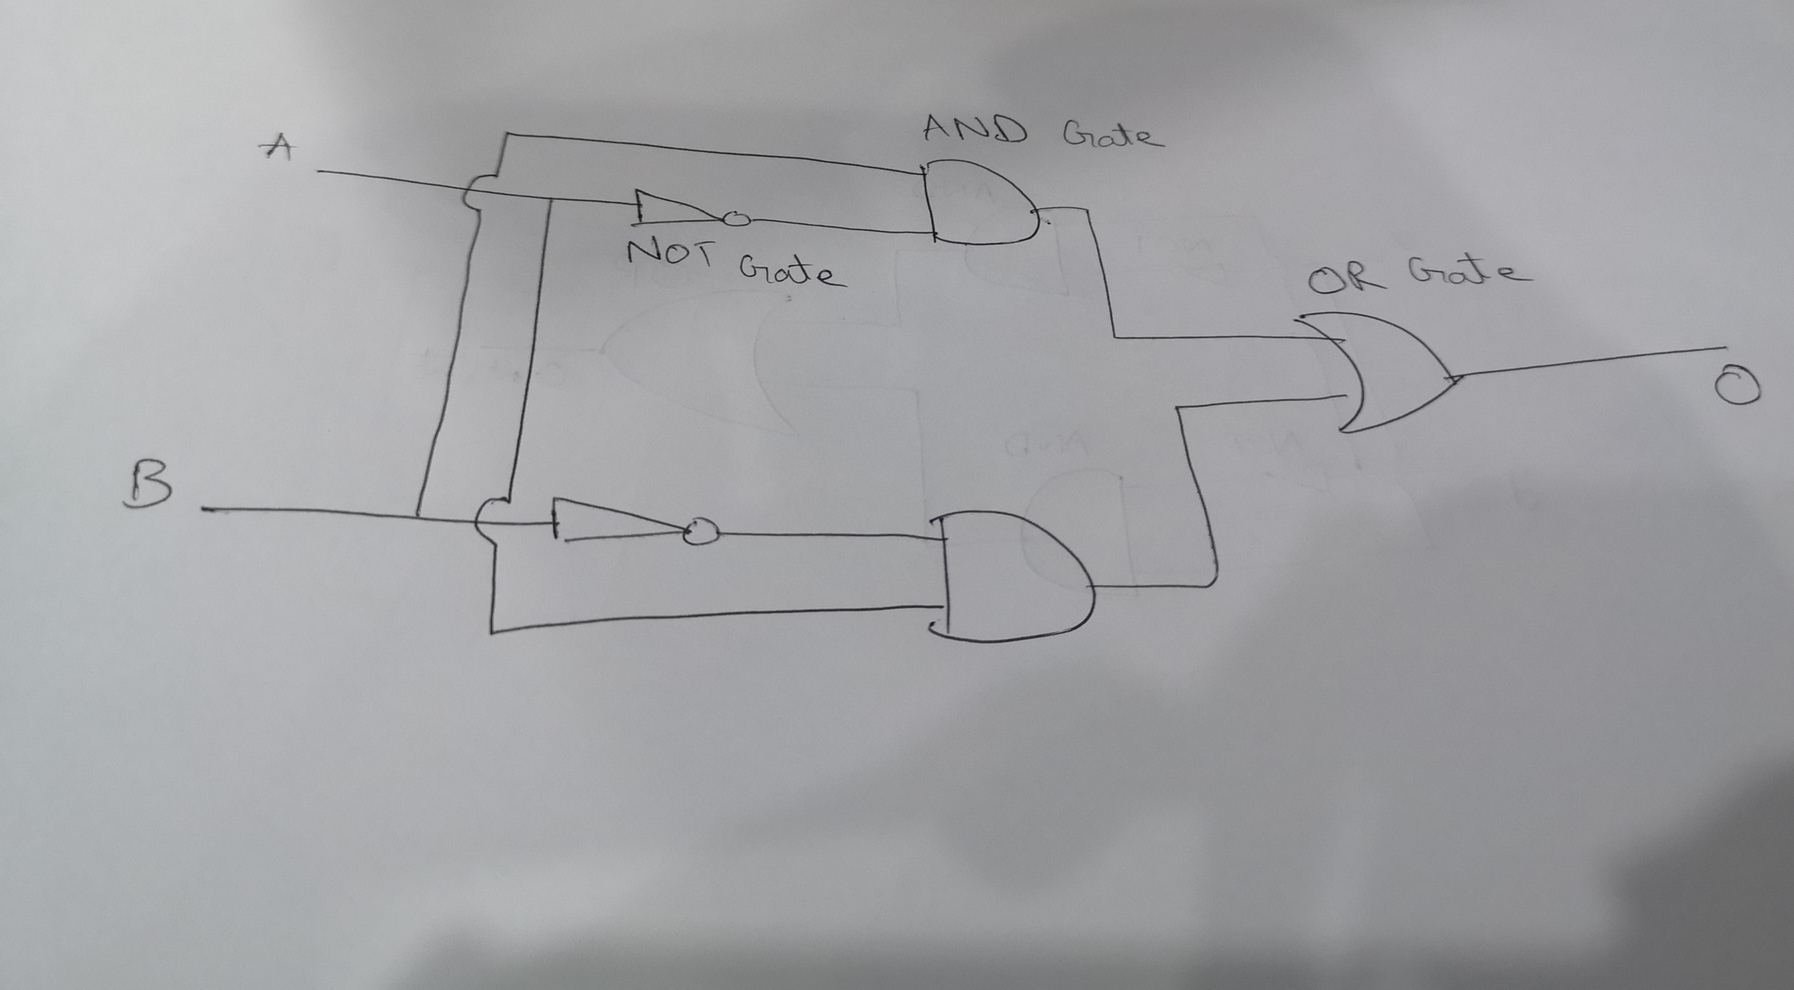and: (925, 504, 1101, 651), (914, 154, 1047, 252)
crossover: (470, 489, 516, 552), (458, 168, 505, 216)
junction: (1196, 564, 1232, 597), (1166, 396, 1192, 423), (405, 505, 428, 529), (1103, 326, 1126, 347), (497, 123, 516, 148), (481, 621, 501, 643), (1076, 199, 1097, 218), (544, 191, 558, 208)
not: (544, 490, 726, 554), (622, 182, 756, 230)
or: (1286, 306, 1470, 443)
terminal: (194, 499, 218, 521), (308, 162, 335, 180), (1711, 337, 1733, 357)
text: (622, 232, 849, 291), (1302, 246, 1540, 297), (907, 111, 1172, 151), (124, 451, 178, 511), (1710, 360, 1766, 411), (256, 127, 296, 166)
